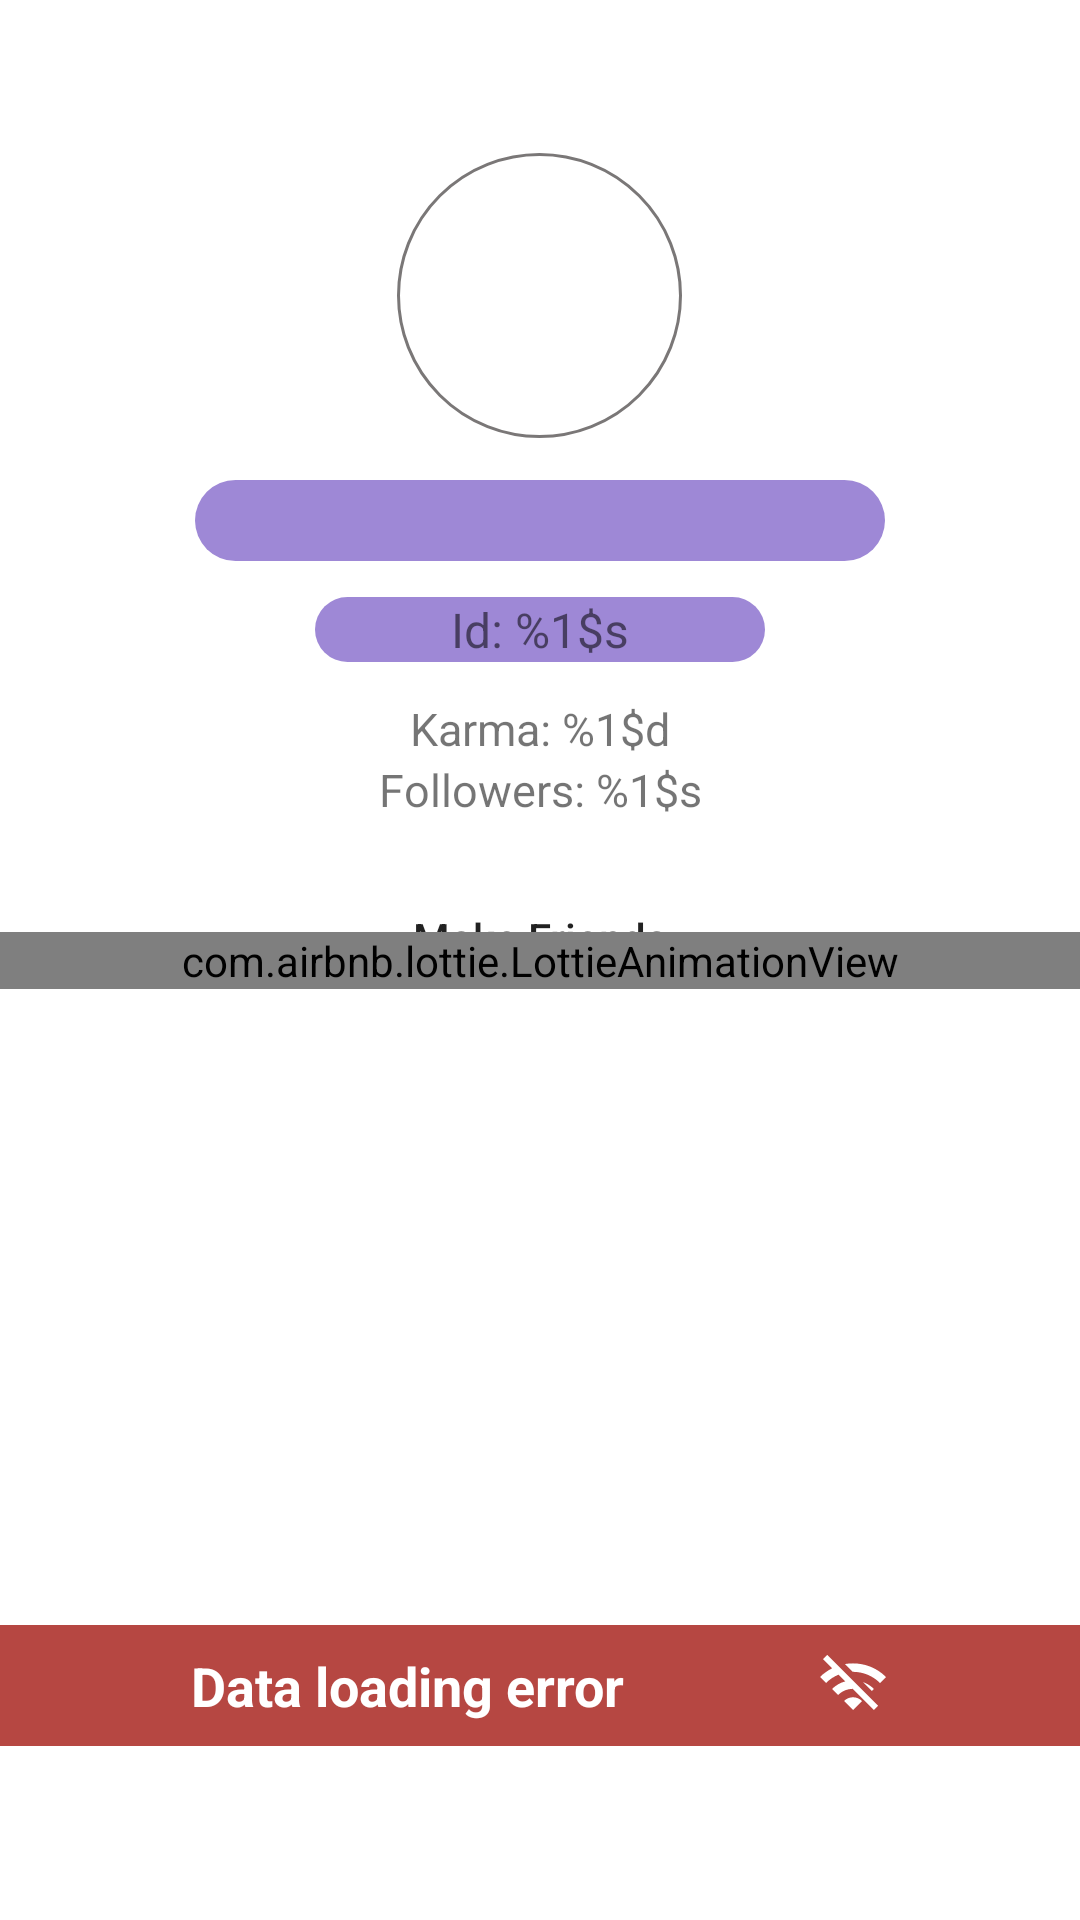

Icon click points for this 1080px×1920px phone screenshot, format point (x, y):
wi-fi img: point (853, 1682)
